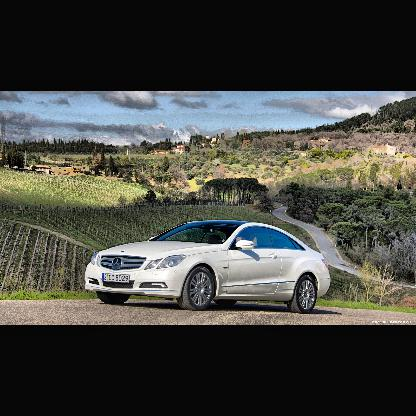Mercedes-Benz E-Class Sedan 2012: (85, 220, 333, 316)
